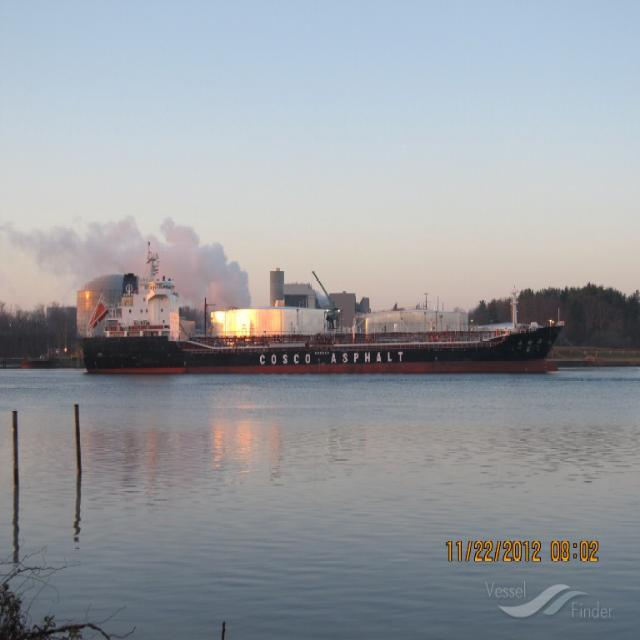OCR: (249, 348, 409, 372)
